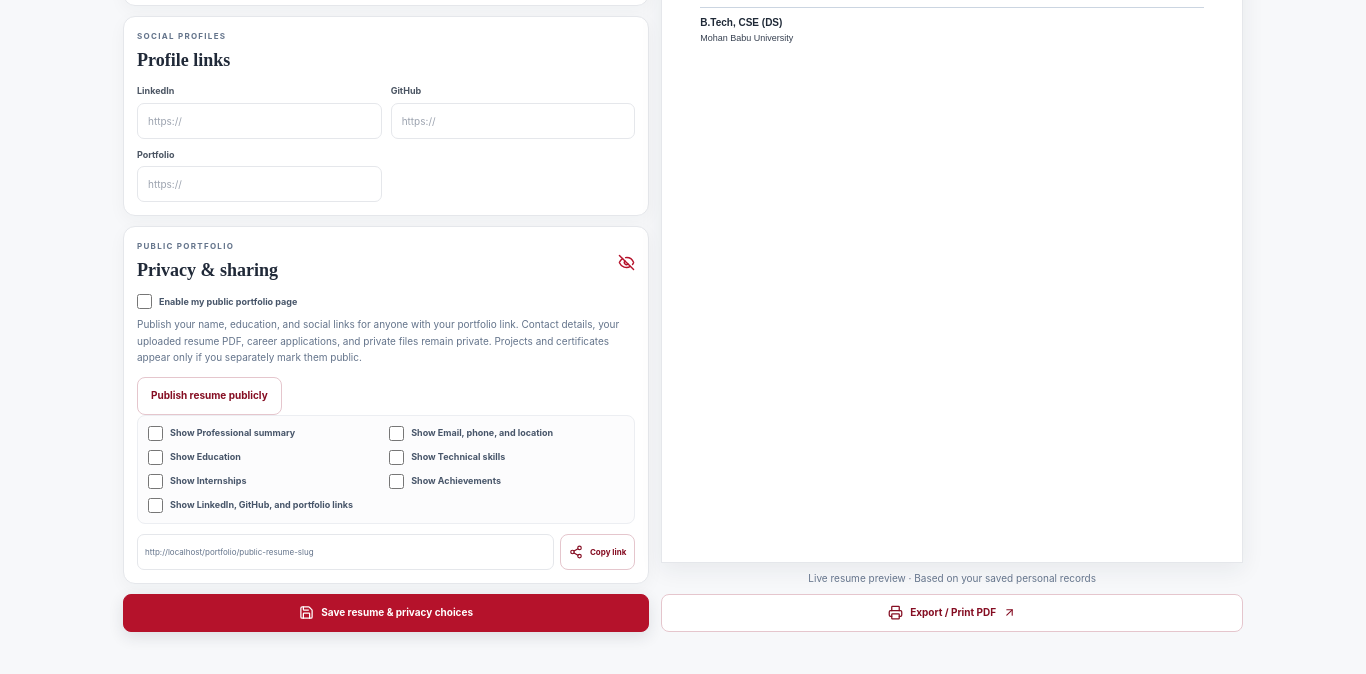
Test case: publishes only the resume sections selected as safe for public sharing
The image size is (1366, 674).
(page scrolled)
Click the button "Publish resume publicly" at (209, 396), box [137,376,282,414]
(page scrolled)
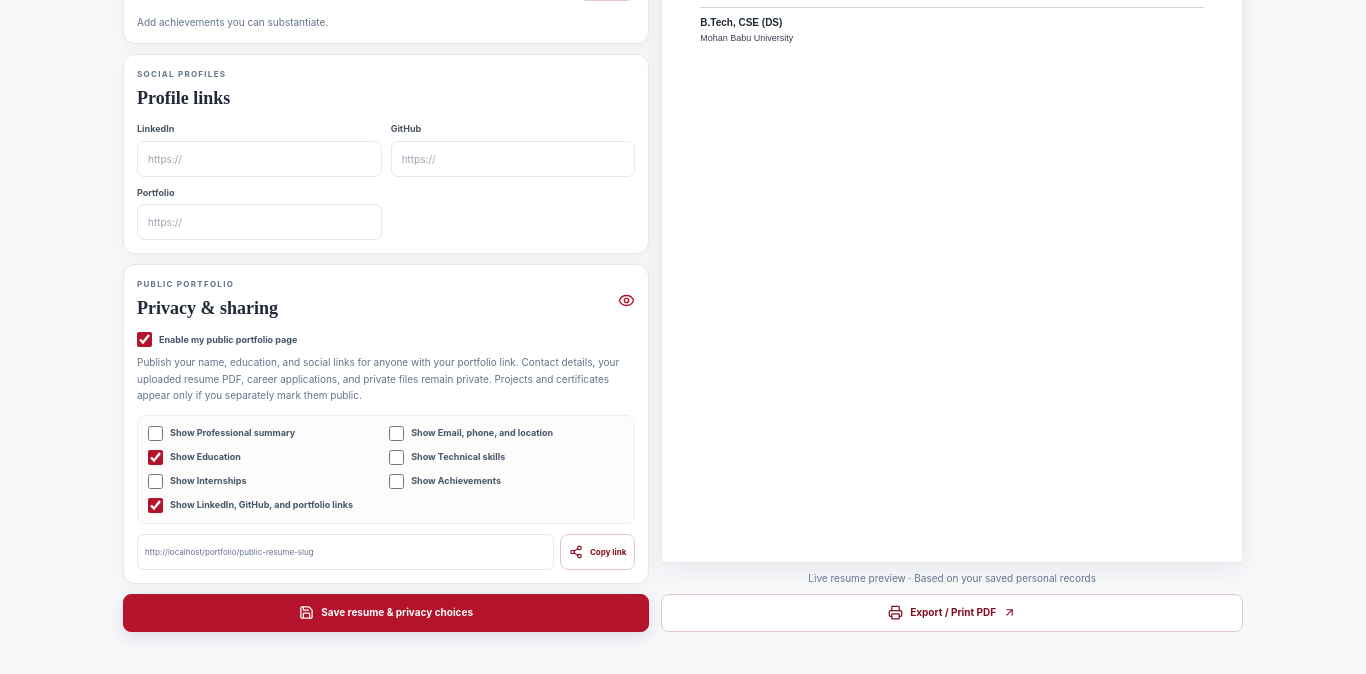
Check: the checkbox labelled "Enable my public portfolio page" is checked, box [137,332,152,347]
Check: the button "Publish resume publicly" is gone
